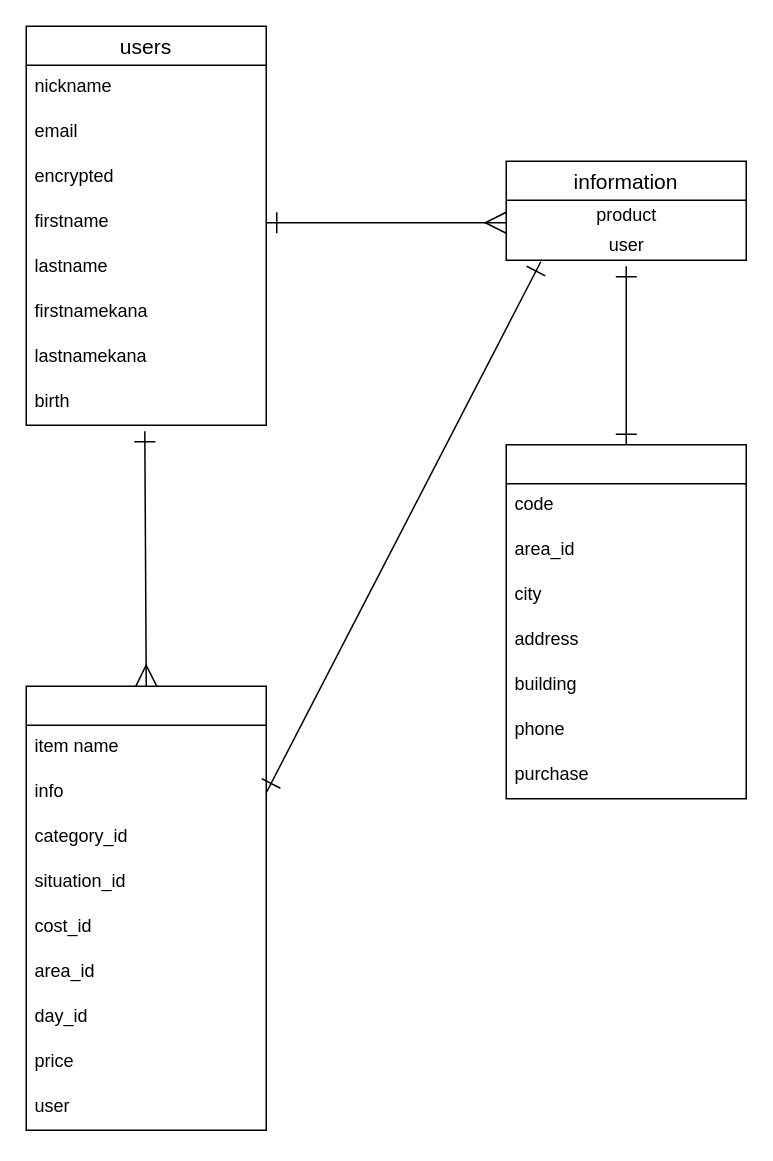
Image size: 773x1161. Some labels were removed from this diagram. The box of each missing label's shape, as (x1, y1, x2, y2) in pixels:
products: (25, 685, 266, 1130)
regidence: (505, 443, 746, 799)
